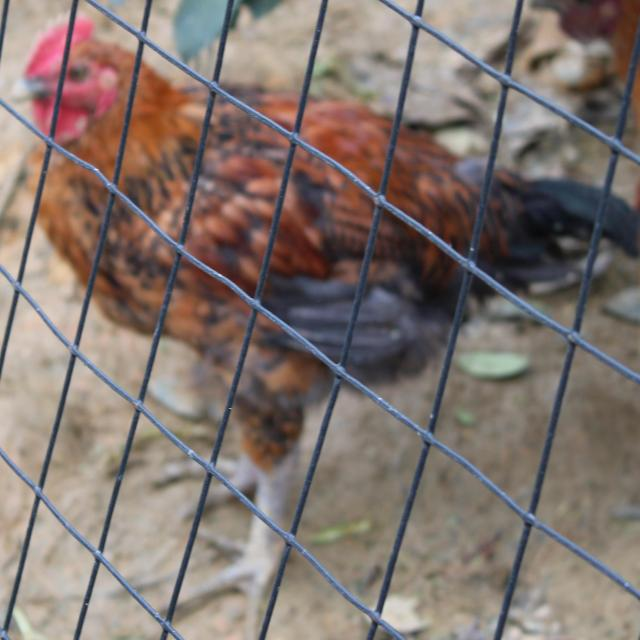hen: (202, 314, 338, 476), (347, 208, 470, 385), (361, 121, 507, 255), (473, 165, 603, 296), (78, 195, 192, 336), (141, 256, 272, 378), (283, 81, 410, 193), (24, 151, 118, 285), (600, 196, 640, 256)
